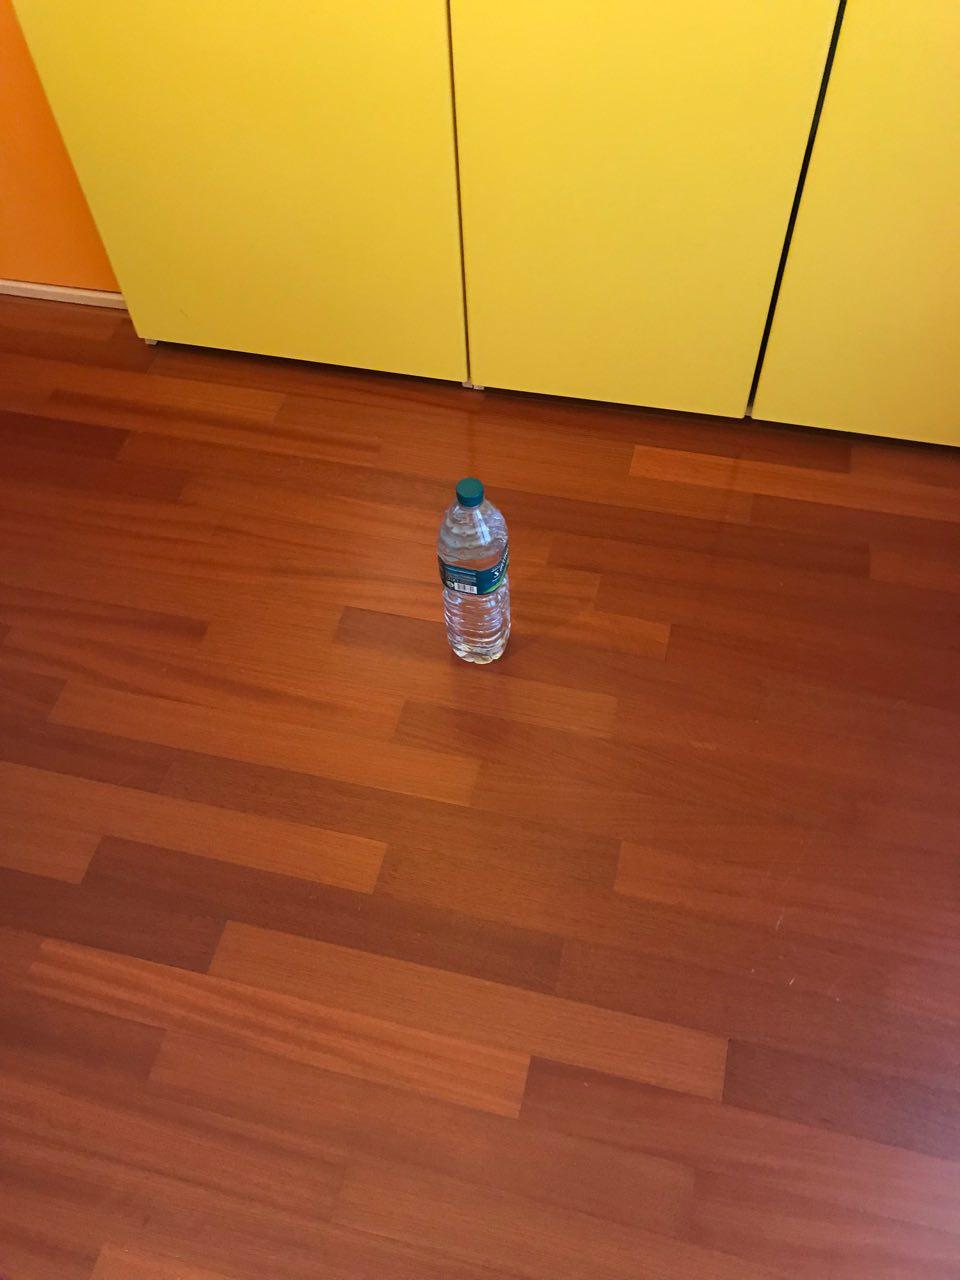san_bernardo: (436, 477, 513, 665)
